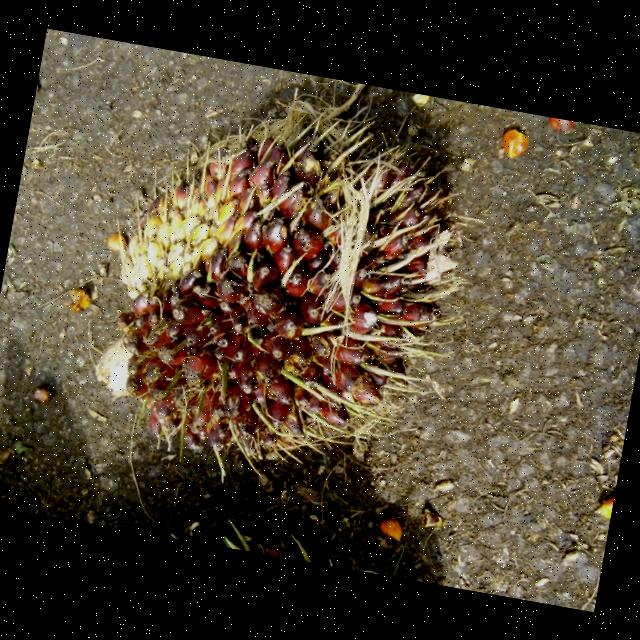Ripe: (99, 103, 454, 472)
